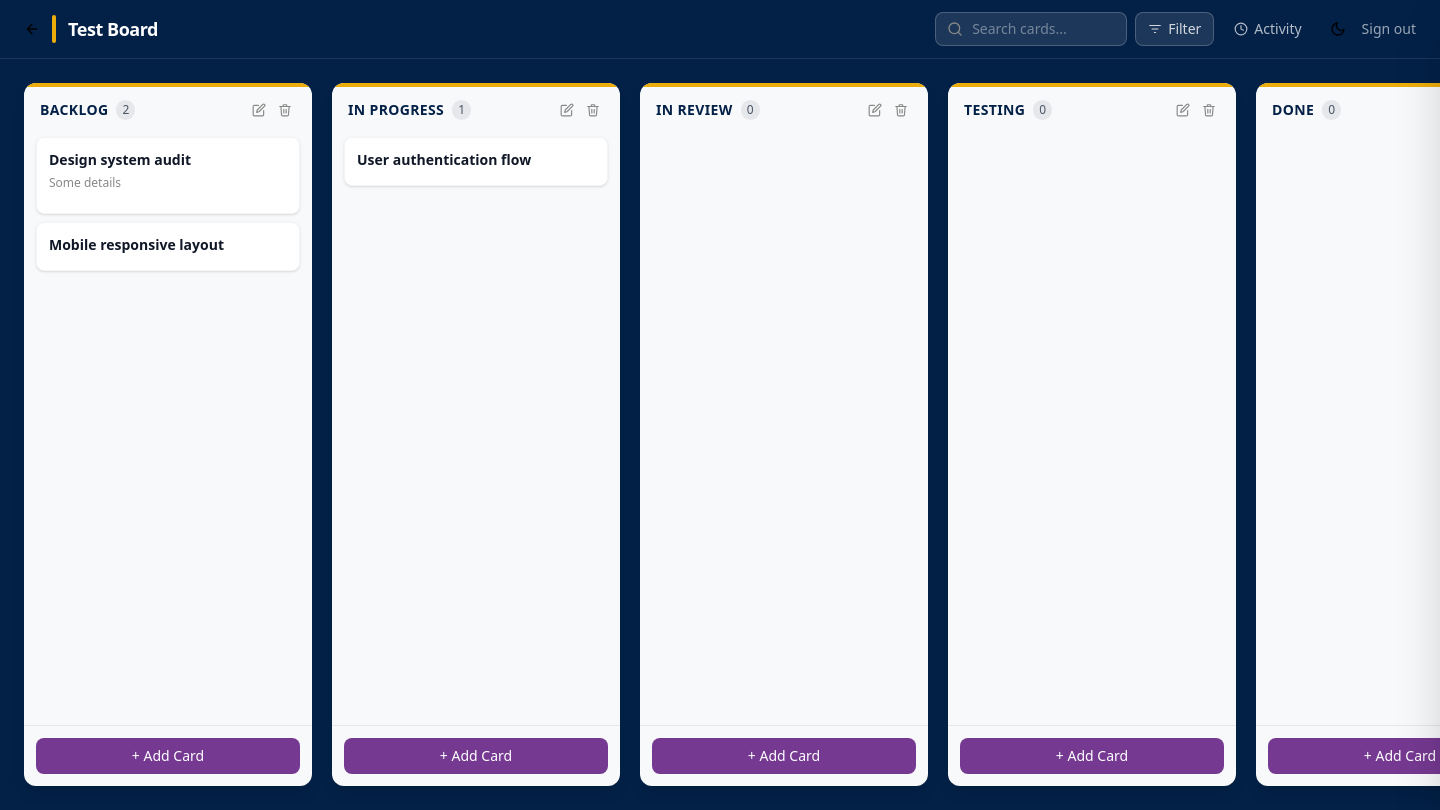
Board › can add a card to a column
The width and height of the screenshot is (1440, 810).
Click the 1st button "+ Add Card" at coordinates (168, 756), box [36, 738, 300, 774]
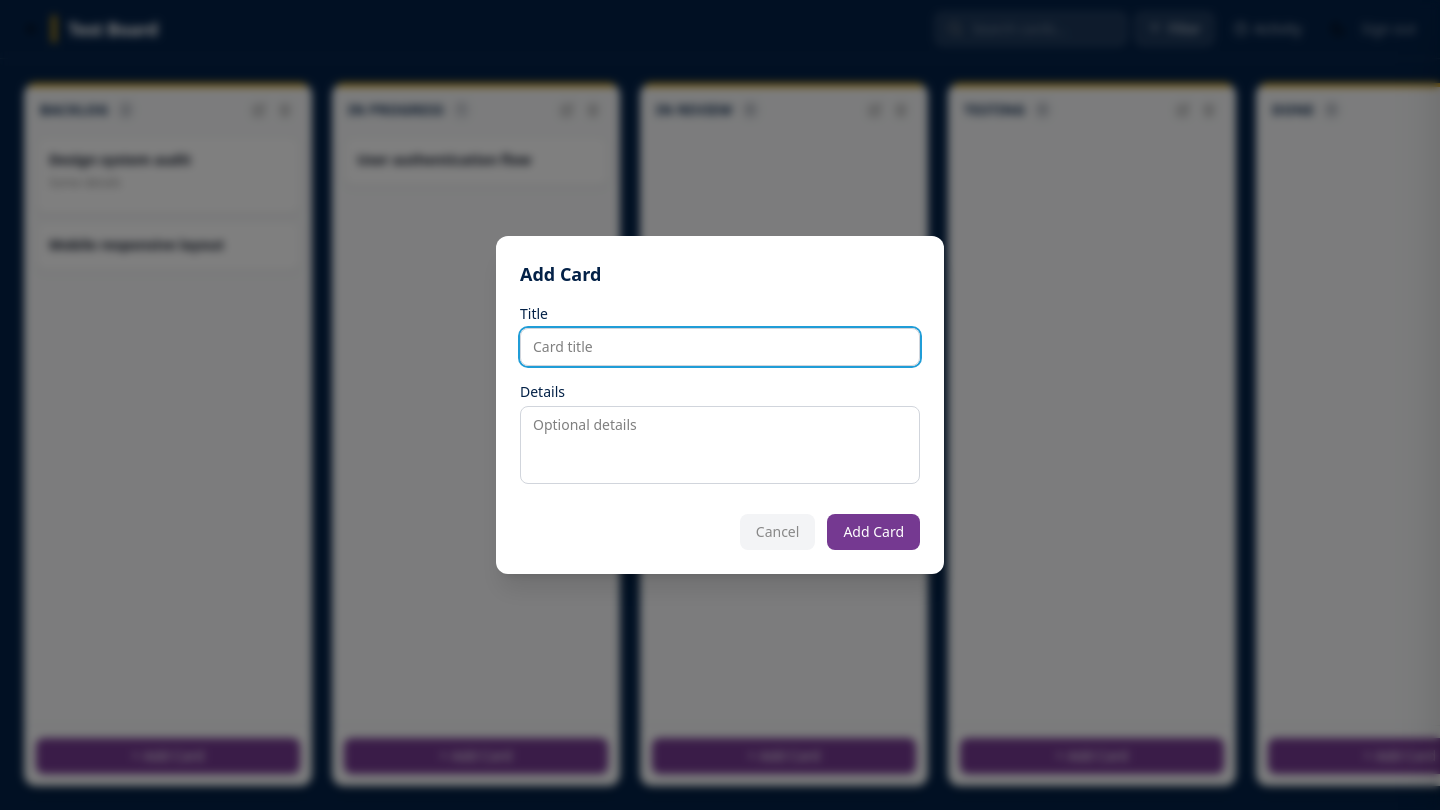
Type "My New Test Card" into the field with placeholder "Card title" at coordinates (720, 347), box [520, 328, 920, 366]
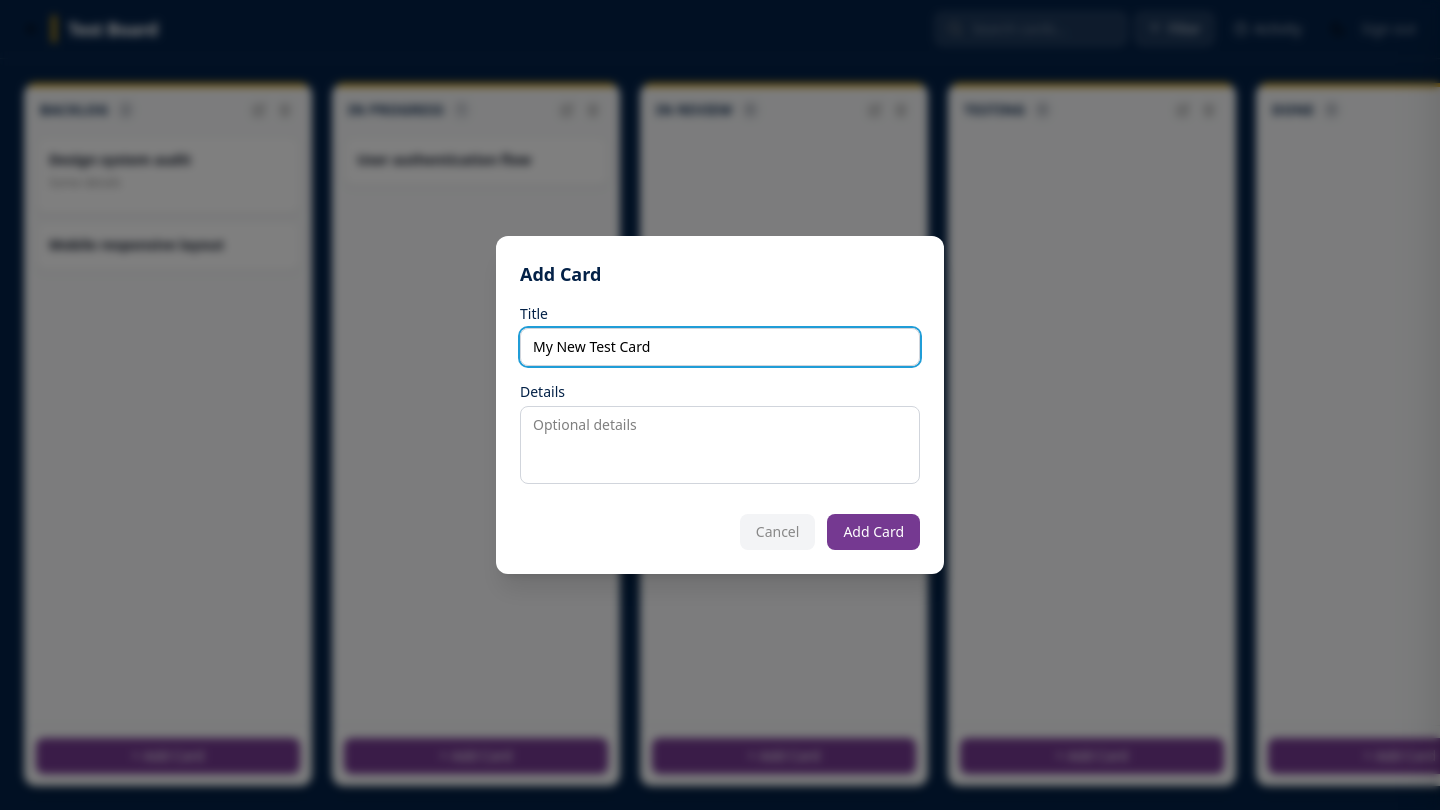
Click the submit button at coordinates (874, 532), box [827, 514, 920, 550]
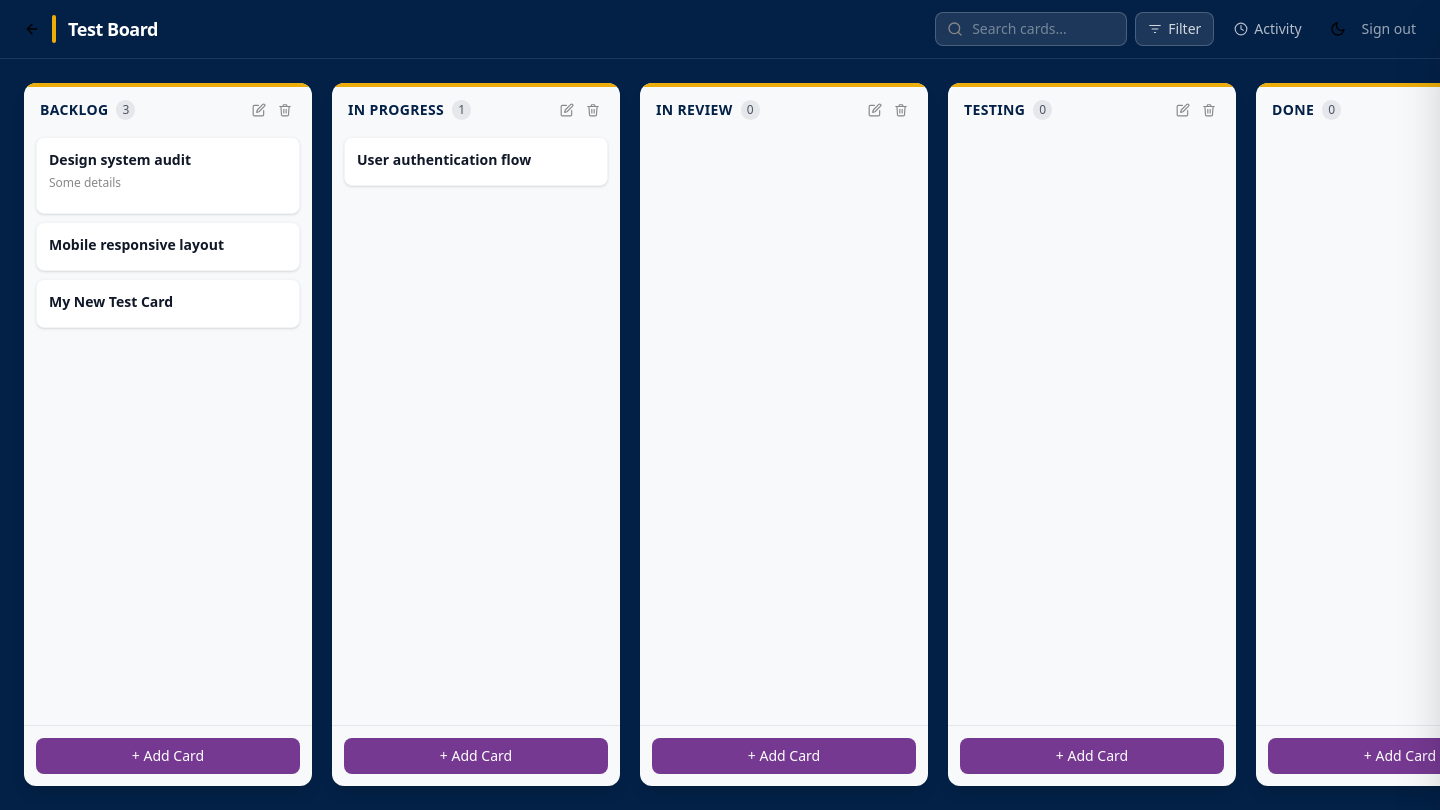
Expected: the heading "My New Test Card" is shown, [49, 292, 173, 311]
